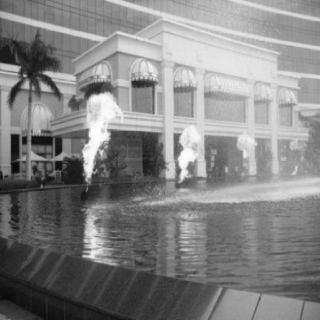Fire: (62, 73, 126, 191), (228, 120, 264, 168), (284, 123, 306, 181)
